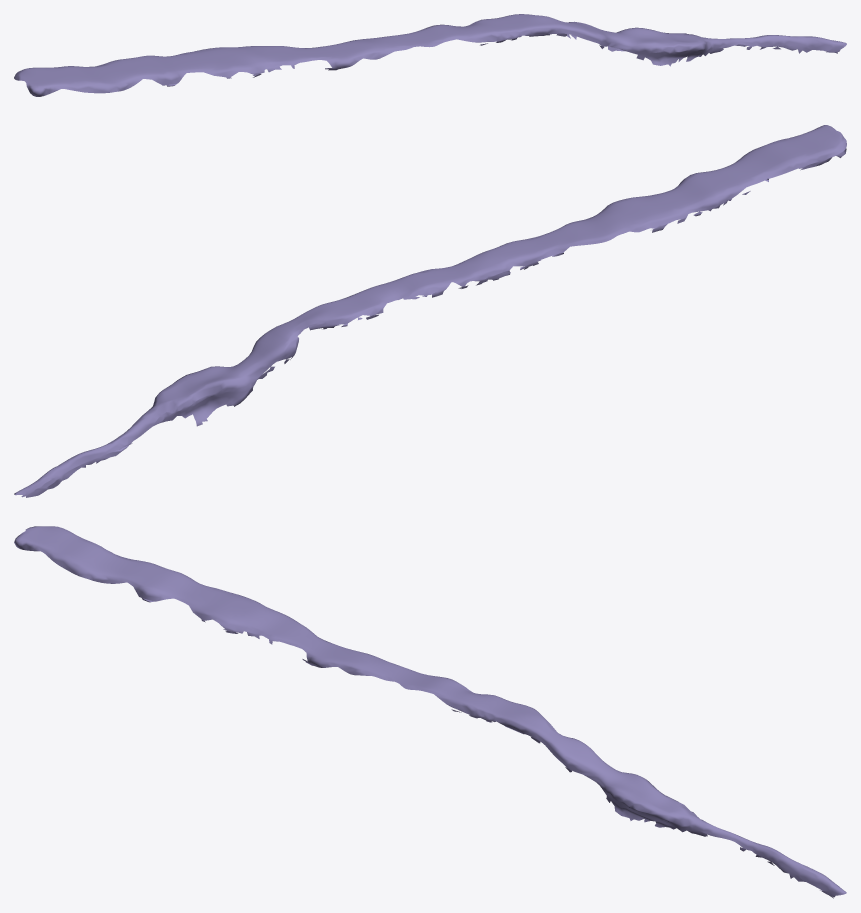
The model's file is LineaAlba.obj.
The picture shows the model from 3 angles, top to bottom: view 1: azimuth 30°, elevation 25°; view 2: azimuth 210°, elevation 25°; view 3: azimuth 330°, elevation 25°; orthographic projection.
Parts seen in each view (by area): view 1: LineaAlbaStartH; view 2: LineaAlbaStartH; view 3: LineaAlbaStartH.
Part boxes in pixels (bbox=[...]): LineaAlbaStartH: bbox=[14, 14, 846, 96]; LineaAlbaStartH: bbox=[14, 125, 846, 497]; LineaAlbaStartH: bbox=[14, 526, 846, 898].
Bounding box in the file's own units: 7.31 × 1.44 × 0.6282.
